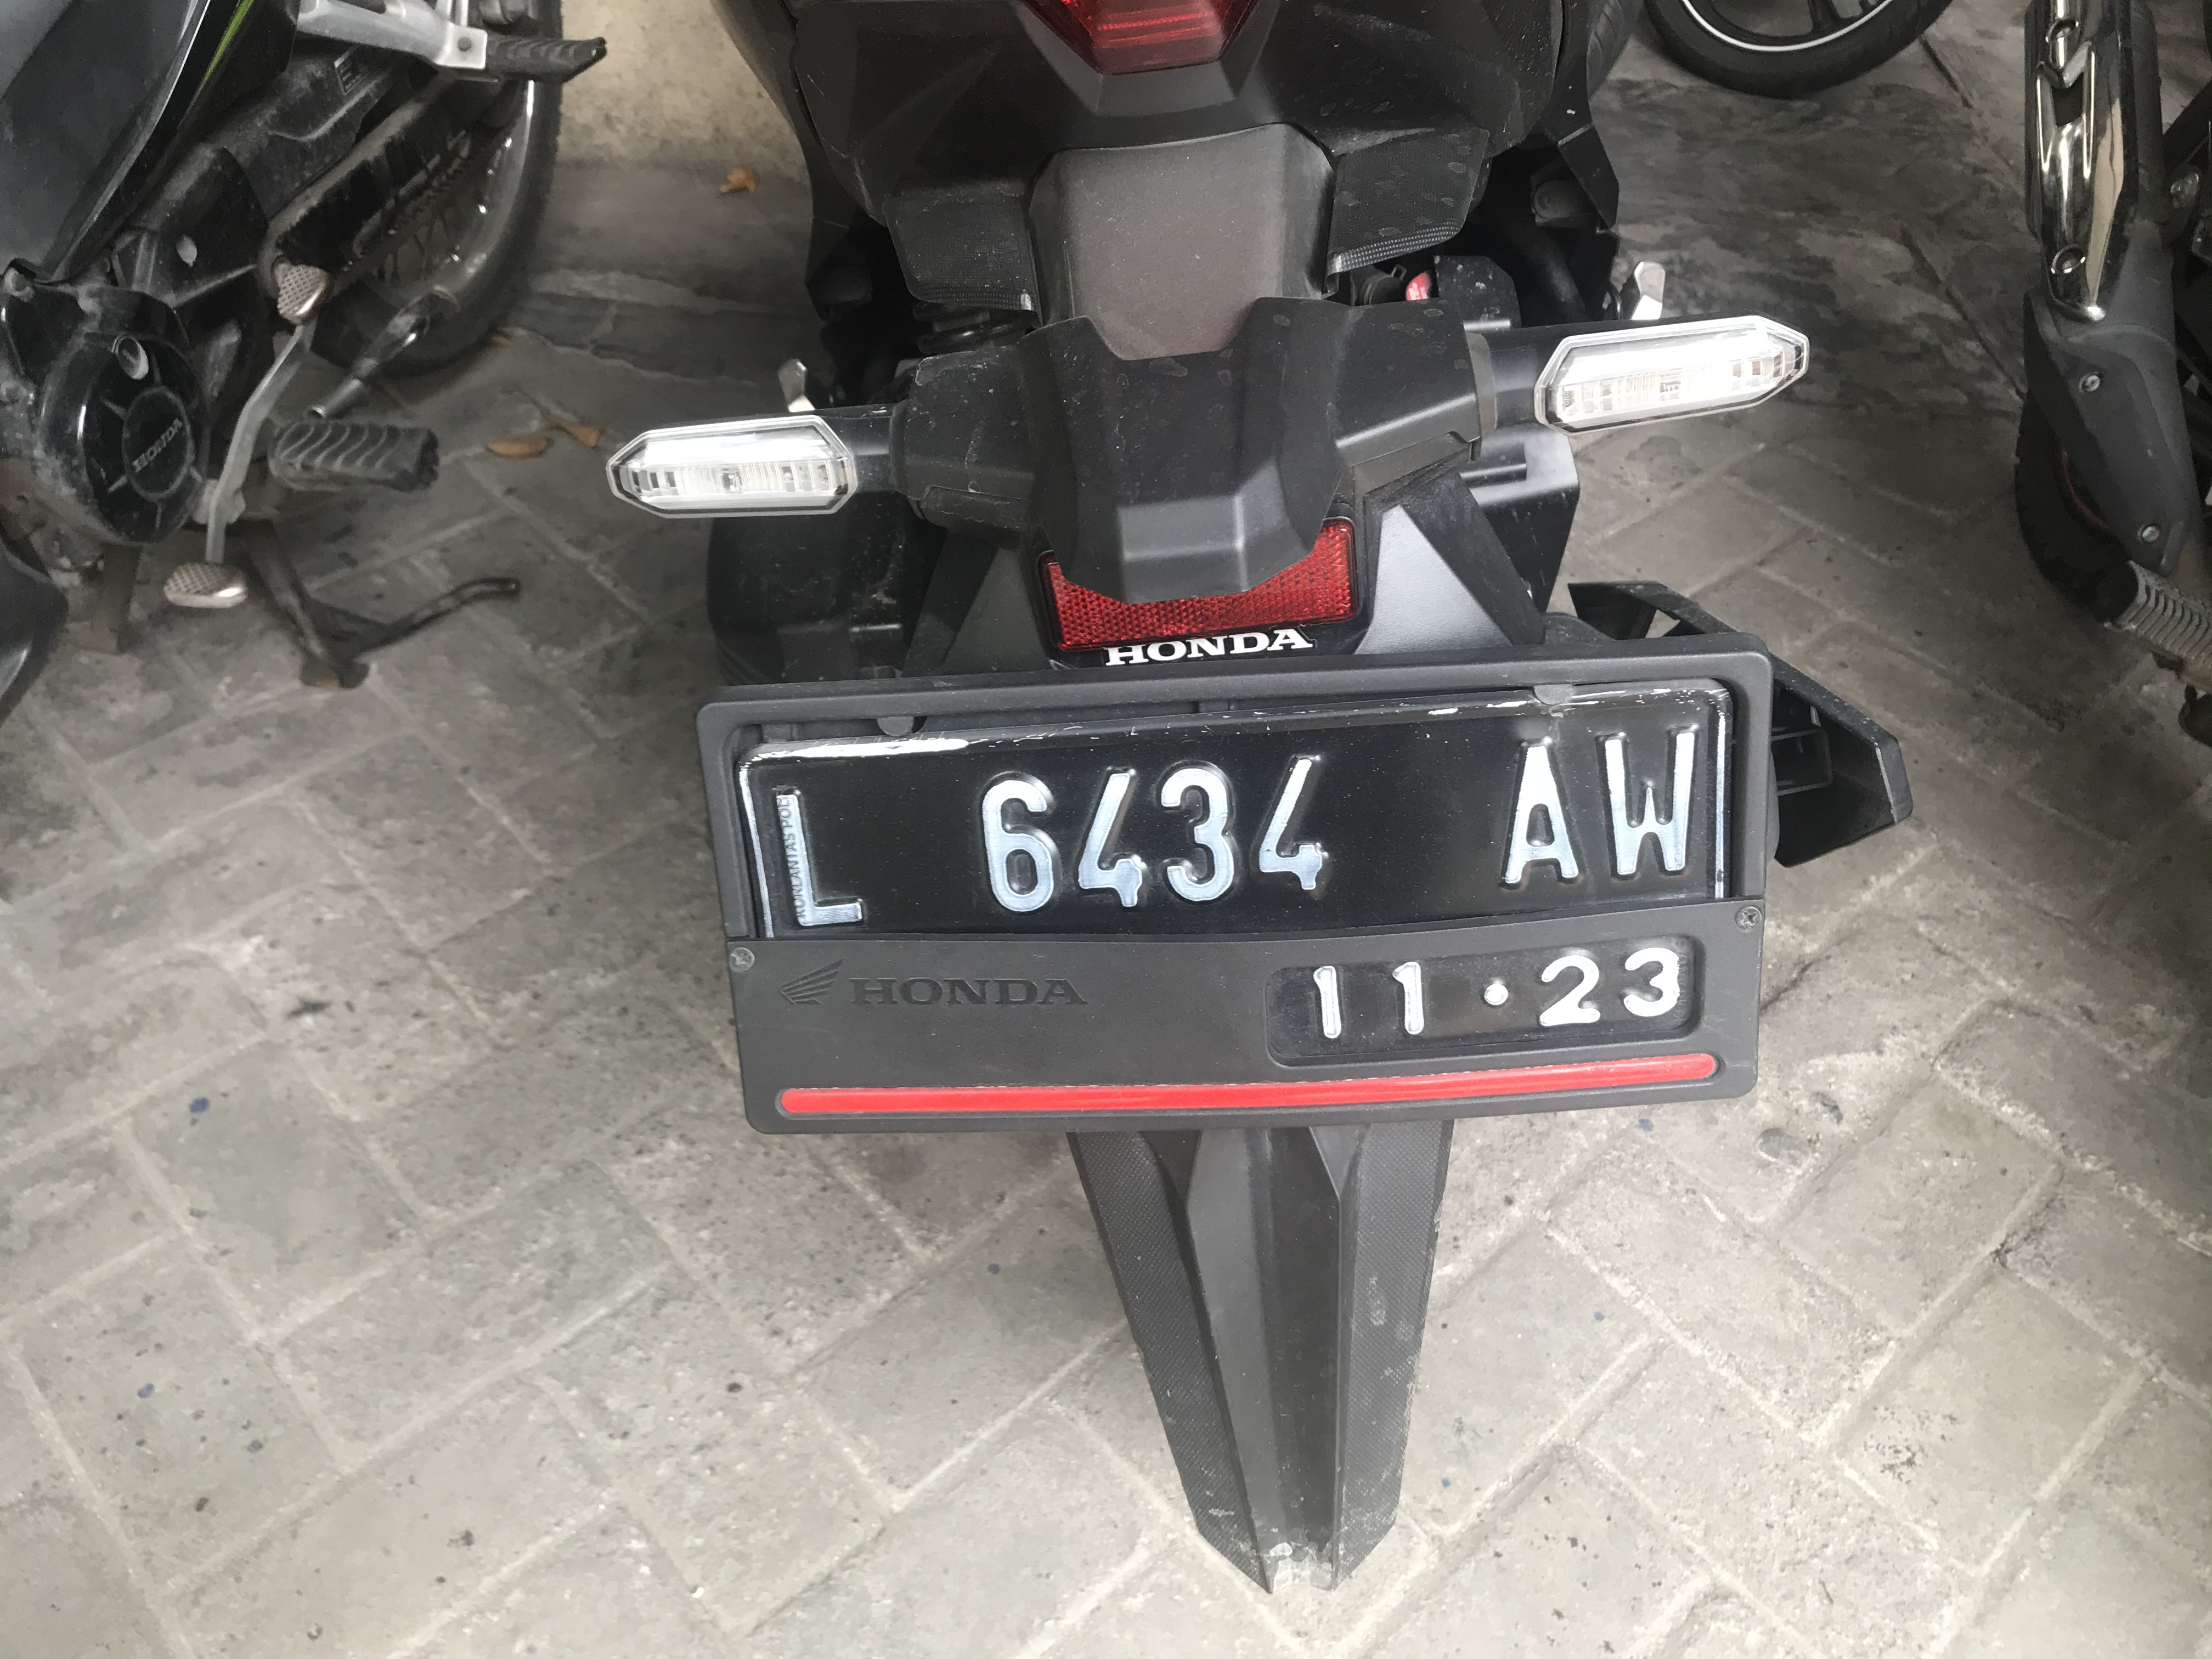plate: (716, 659, 1779, 1138)
